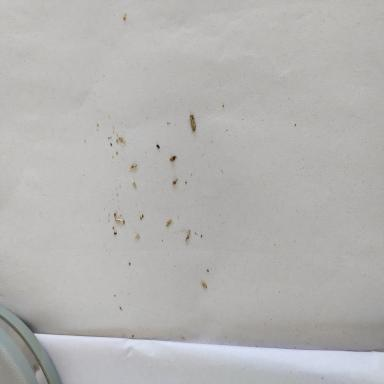pbw: (190, 114, 196, 132), (118, 137, 125, 146), (166, 218, 173, 226), (128, 164, 137, 170), (200, 282, 207, 288), (115, 218, 123, 223), (132, 179, 136, 187), (133, 234, 140, 238)
